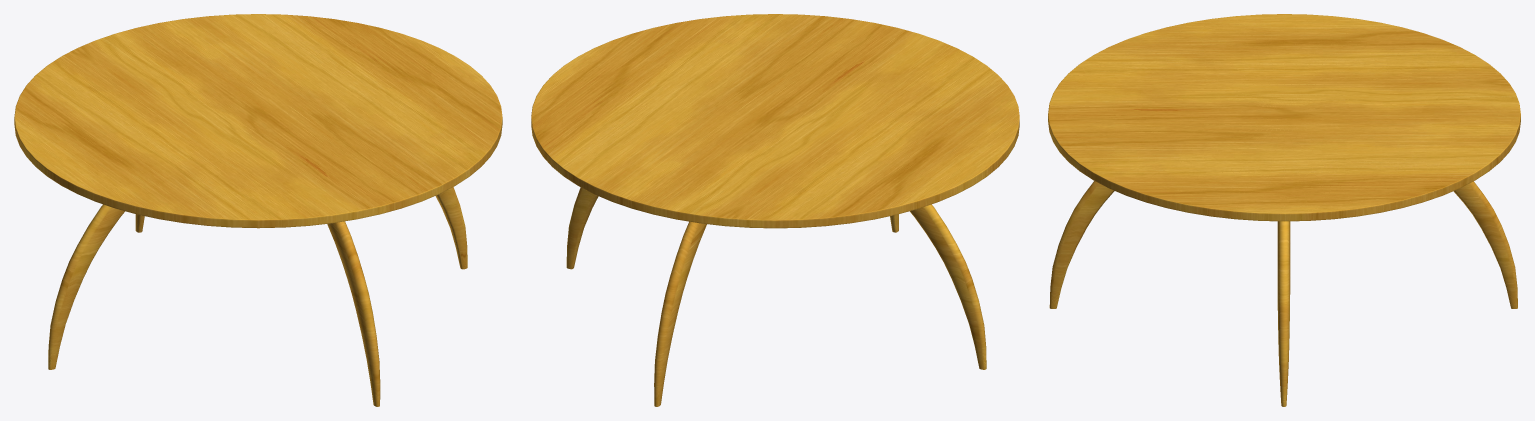
3 views of the same model, side by side, from view 1: azimuth 30°, elevation 25°; view 2: azimuth 150°, elevation 25°; view 3: azimuth 270°, elevation 25° (orthographic). The views are drawn at different scales.
Visible parts, largest first — view 1: pCylinder2, pCube12, pCube13, pCube10; view 2: pCylinder2, pCube12, pCube11, pCube10; view 3: pCylinder2, pCube13, pCube11, pCube10.
Part boxes in pixels (x1,y1,x2,y2): pCylinder2: [14, 14, 502, 228]; pCube12: [48, 204, 124, 369]; pCube13: [327, 221, 380, 406]; pCube10: [435, 187, 467, 269]; pCylinder2: [531, 14, 1019, 228]; pCube12: [910, 204, 986, 369]; pCube11: [654, 221, 706, 406]; pCube10: [566, 187, 598, 269]; pCylinder2: [1048, 14, 1520, 221]; pCube13: [1049, 181, 1114, 308]; pCube11: [1453, 181, 1517, 308]; pCube10: [1277, 221, 1290, 406].
Bounding box in the file's own units: 0.4381 × 0.1992 × 0.438.
1 material, 1 textured.
